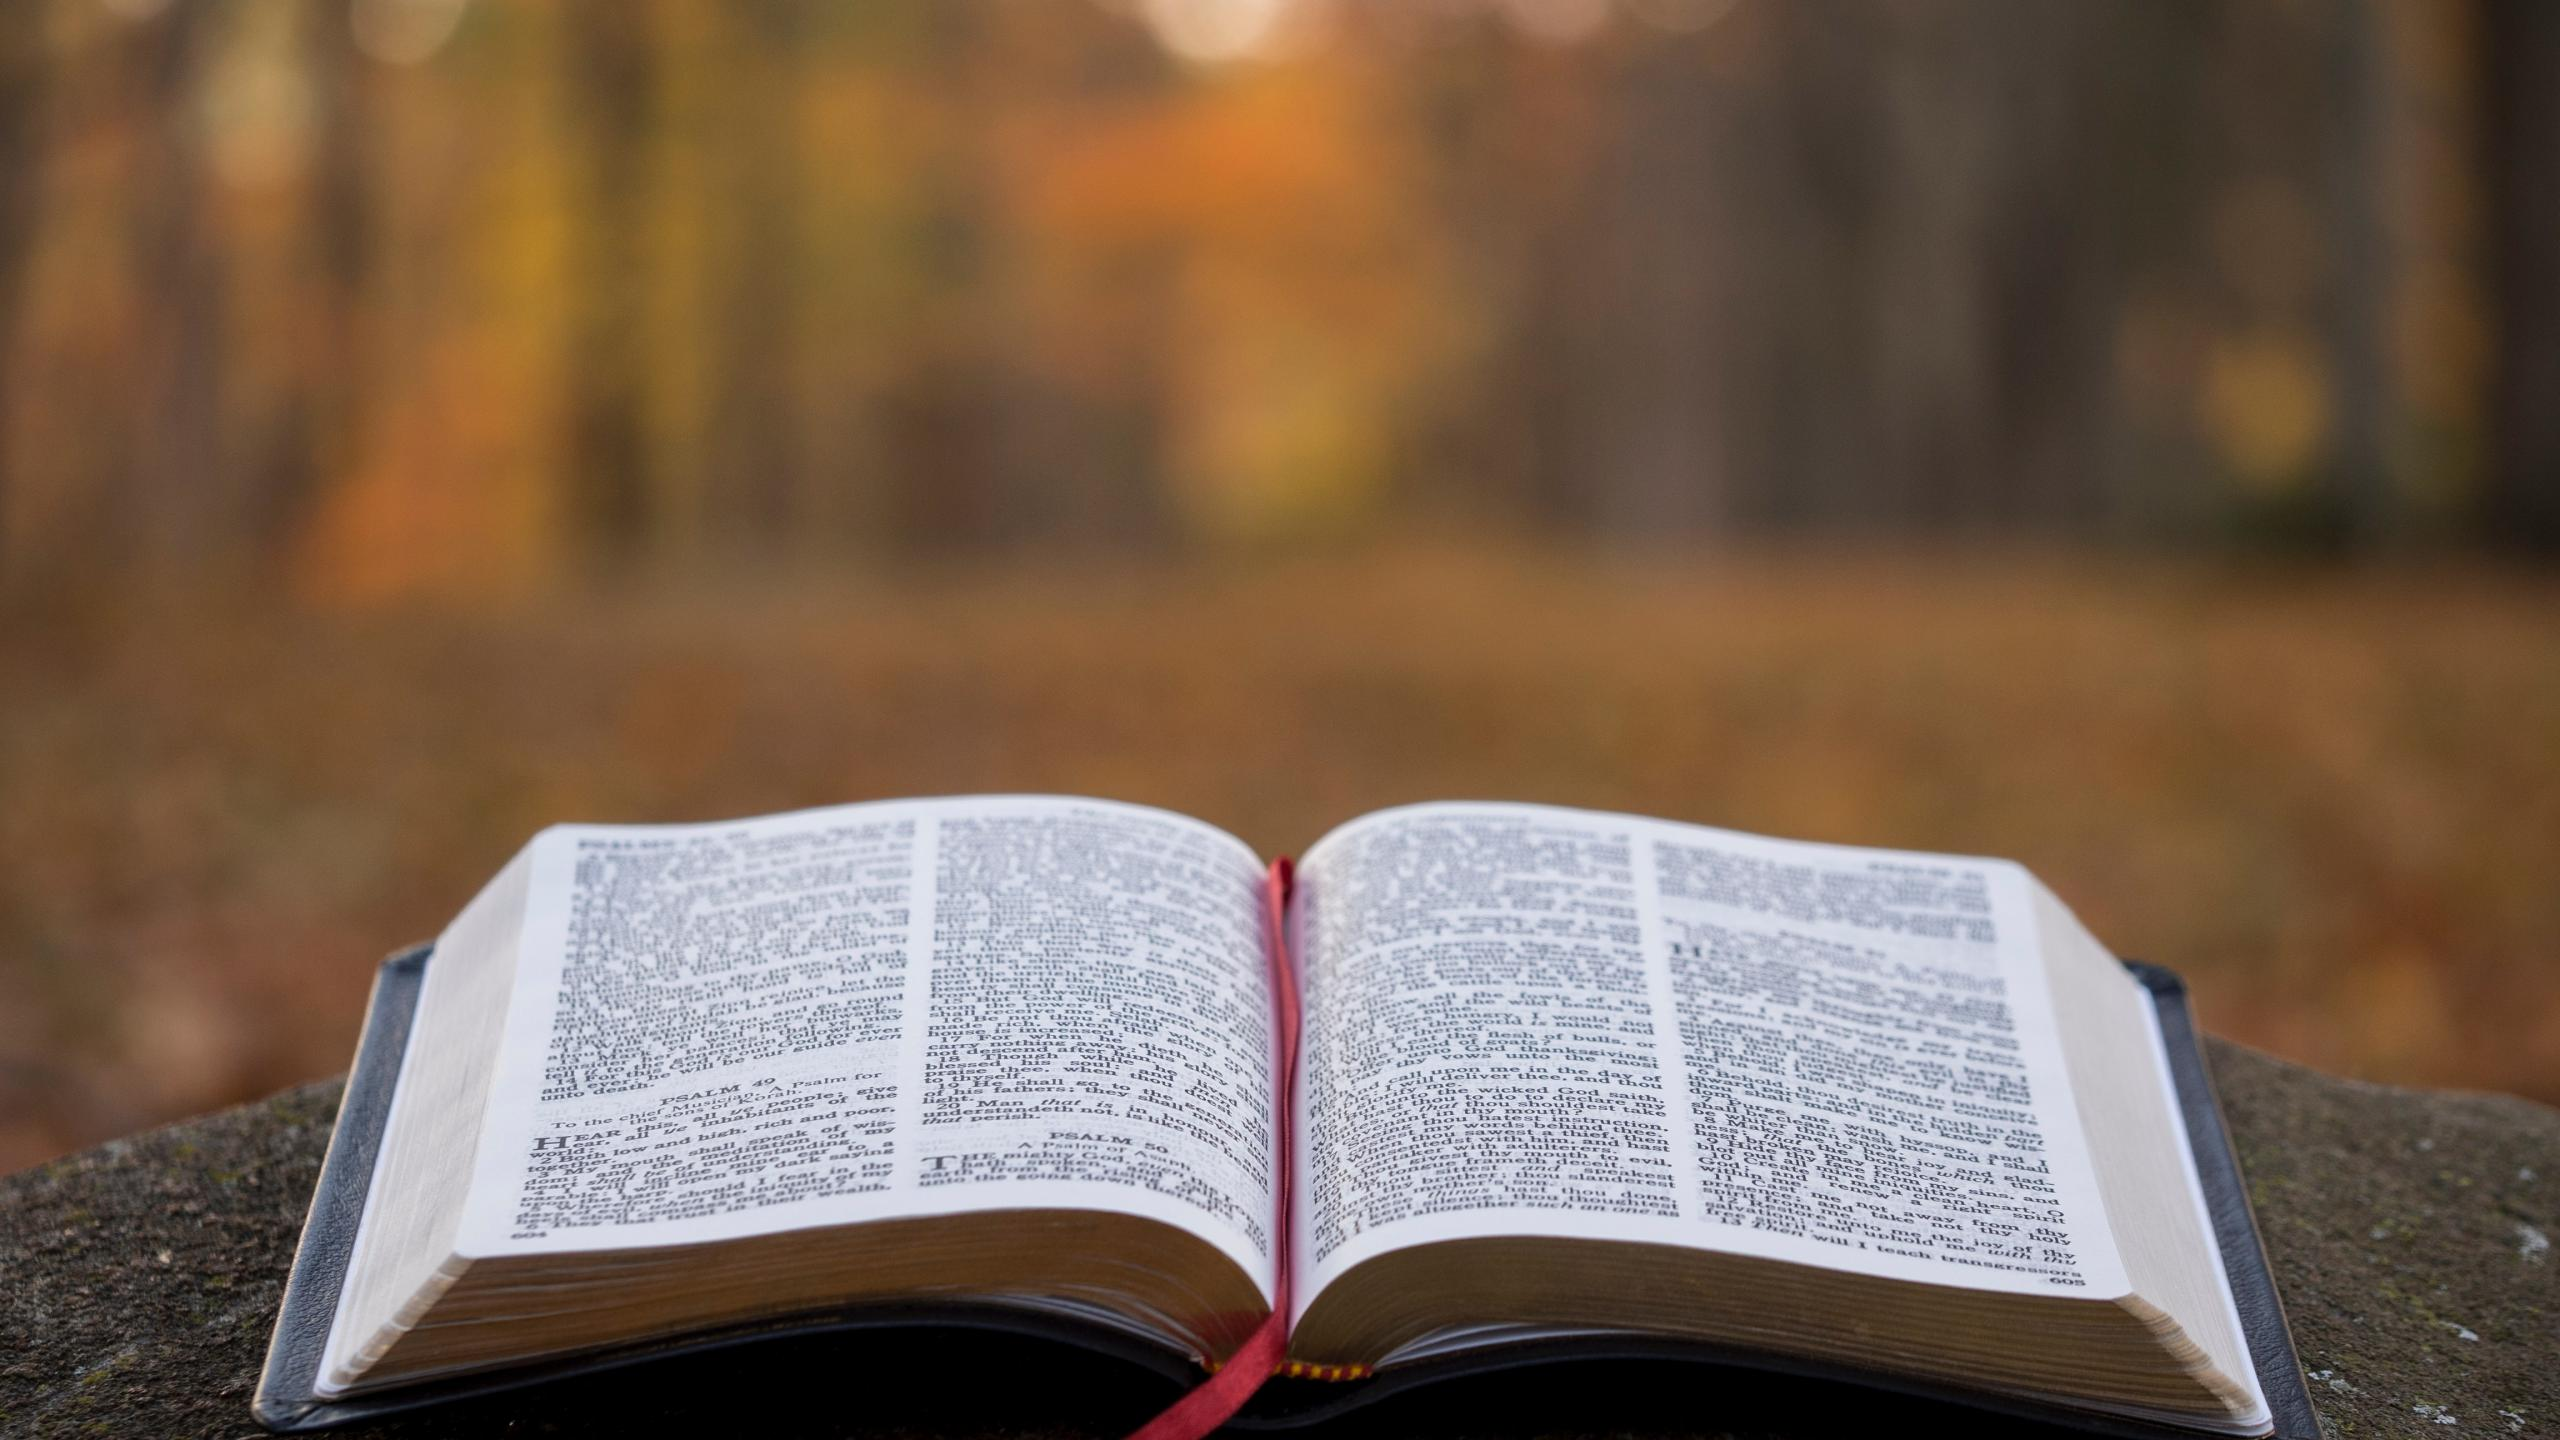book: (216, 781, 2330, 1431)
